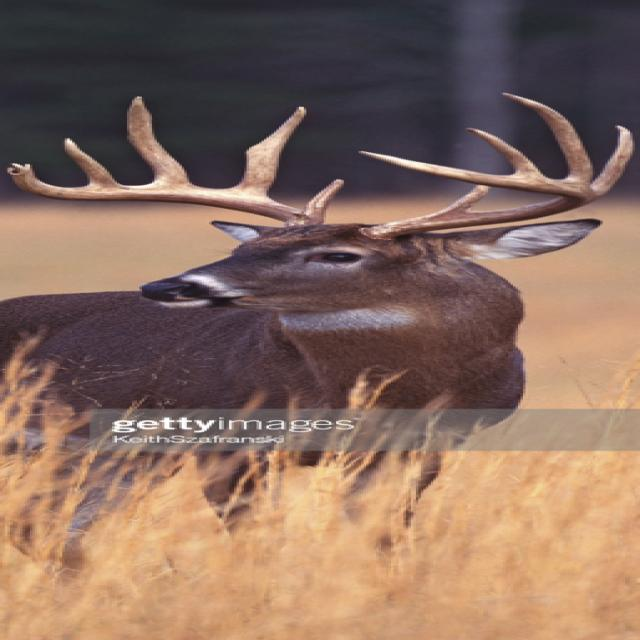L-F: (356, 150, 599, 241)
L-G1: (436, 184, 491, 213)
L-G2: (591, 124, 636, 198)
L-G3: (498, 91, 594, 181)
L-G4: (463, 126, 552, 179)
R-F: (5, 162, 327, 227)
R-G1: (303, 178, 347, 218)
R-G2: (219, 104, 309, 200)
R-G3: (122, 94, 203, 187)
R-G4: (62, 137, 126, 186)
